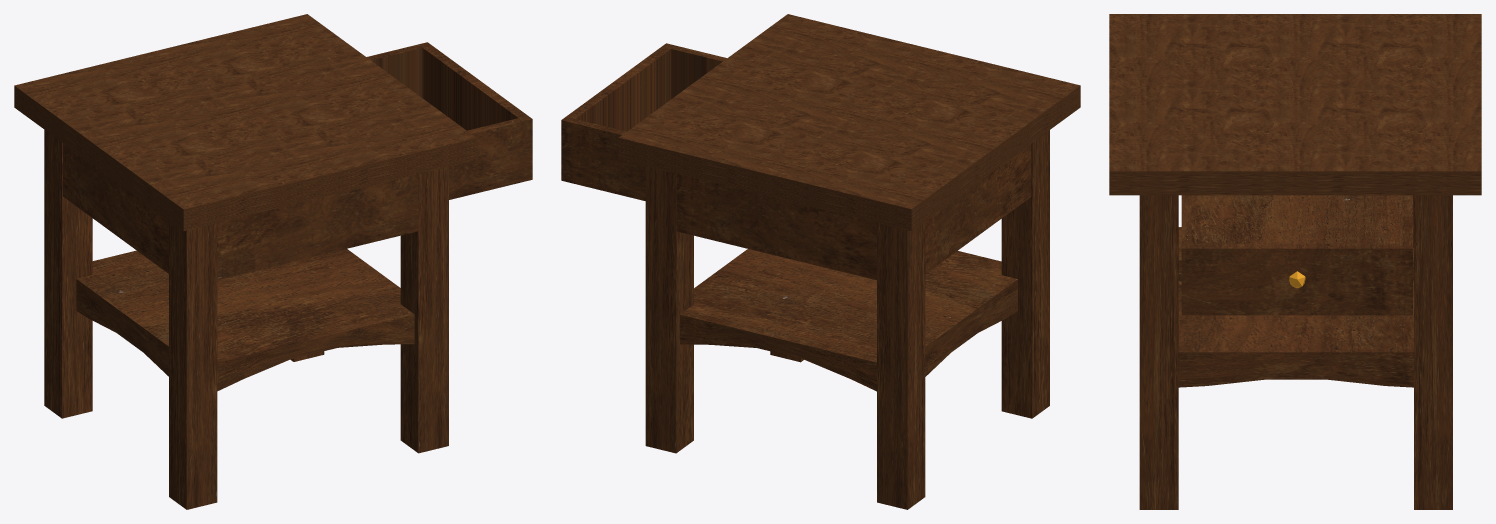
File: nightstand.gltf
3 views of the same model, side by side, from view 1: azimuth 30°, elevation 25°; view 2: azimuth 150°, elevation 25°; view 3: azimuth 270°, elevation 25° (orthographic). The views are drawn at different scales.
Parts seen in each view (by area): view 1: Cube, Cube.001, Cube.002, Cube.003, Drawer, Cube.005; view 2: Cube, Cube.001, Cube.002, Cube.004, Drawer, Cube.005; view 3: Cube, Drawer, Cube.001, Cube.002.
Boxes of the visible parts, x1,y1,x2,y2 form: Cube: (14,14,476,231); Cube.001: (44,130,448,509); Cube.002: (76,249,414,391); Cube.003: (217,174,418,280); Drawer: (366,42,532,199); Cube.005: (63,143,168,273); Cube: (618,14,1080,230); Cube.001: (645,130,1049,509); Cube.002: (680,249,1017,391); Cube.004: (676,174,876,280); Drawer: (561,43,726,200); Cube.005: (925,144,1031,273); Cube: (1109,14,1481,195); Drawer: (1181,195,1412,315); Cube.001: (1139,195,1452,509); Cube.002: (1178,227,1413,387).
Bounding box in the file's own units: 4.47 × 3.46 × 3.37.
Materials: 2 (1 with a texture image).
